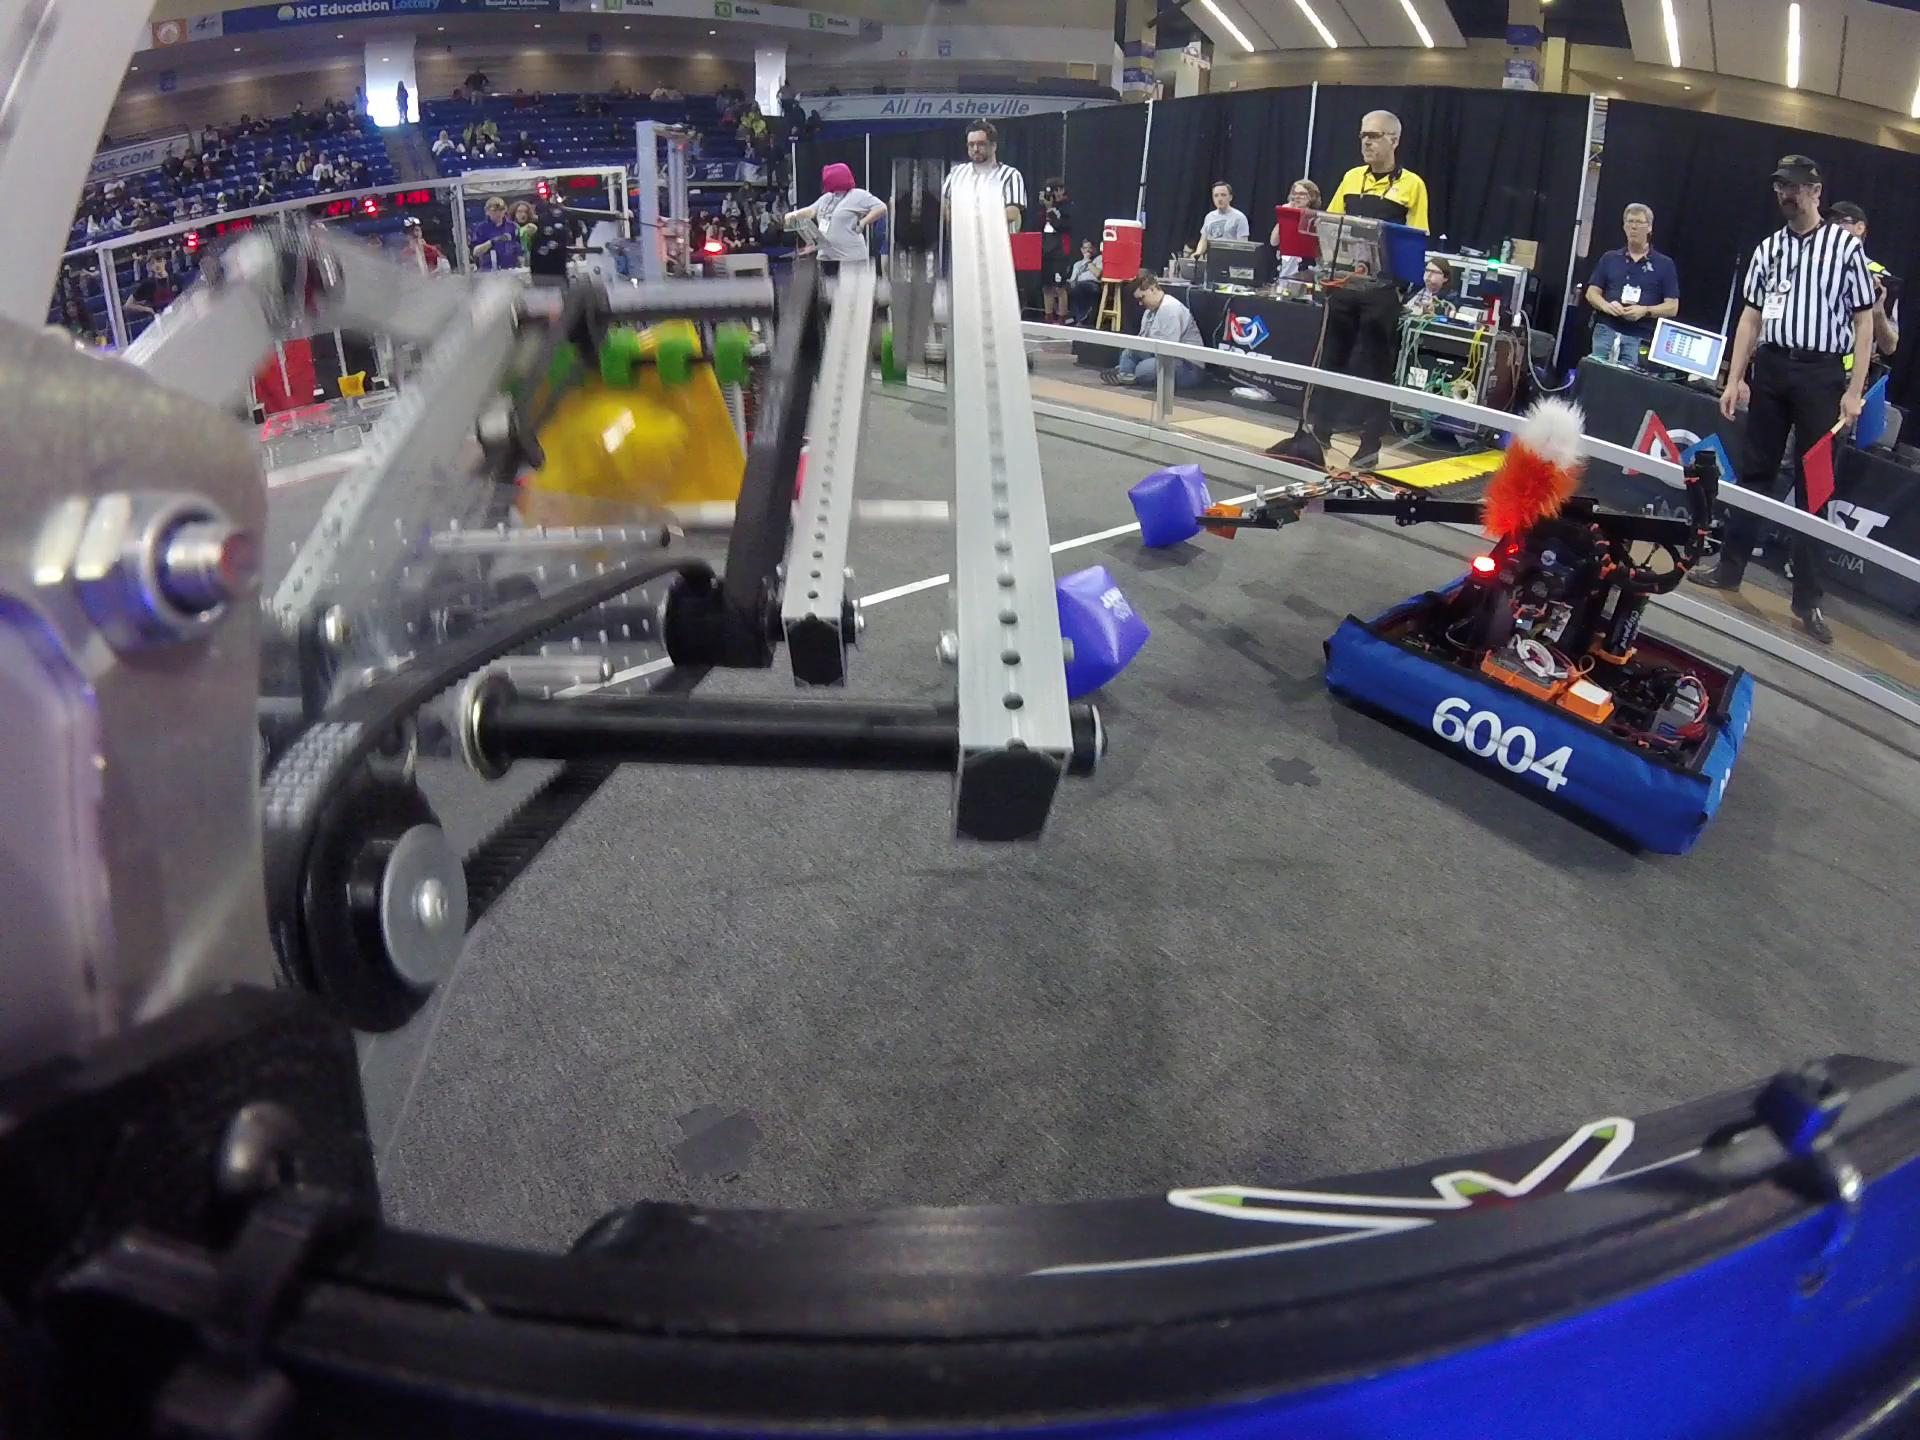robot: (1315, 408, 1766, 850)
